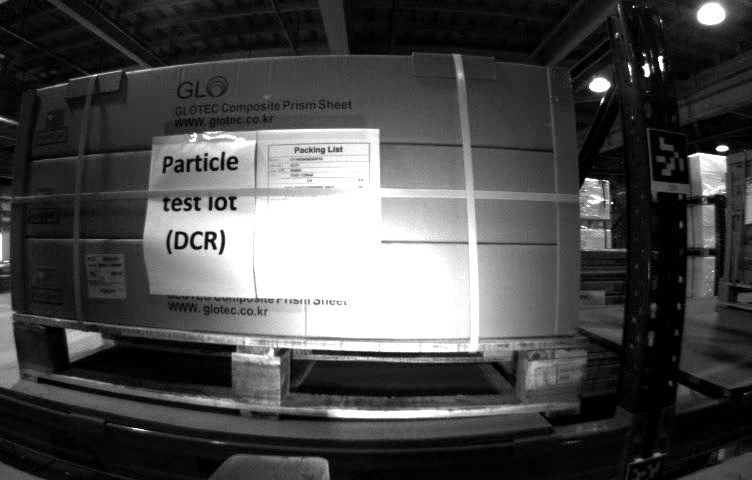True Barcode: (80, 255, 131, 301)
